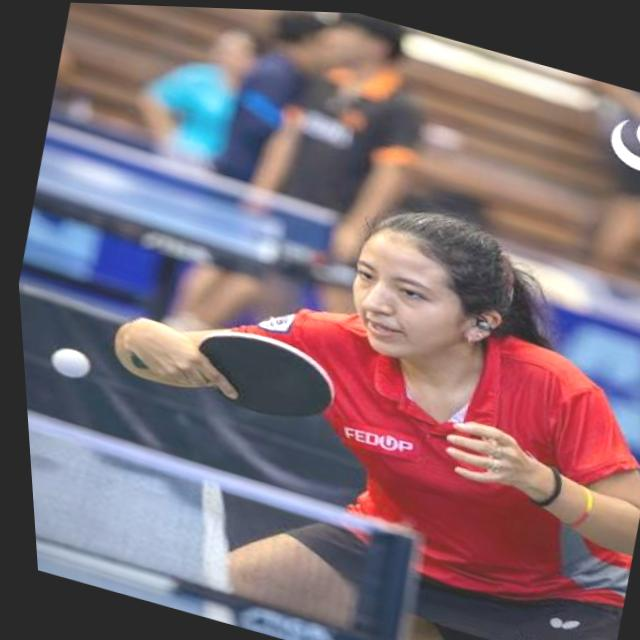TT Net: (27, 406, 419, 640)
TT Racket: (177, 324, 364, 433)
TT Table: (27, 409, 223, 621)
